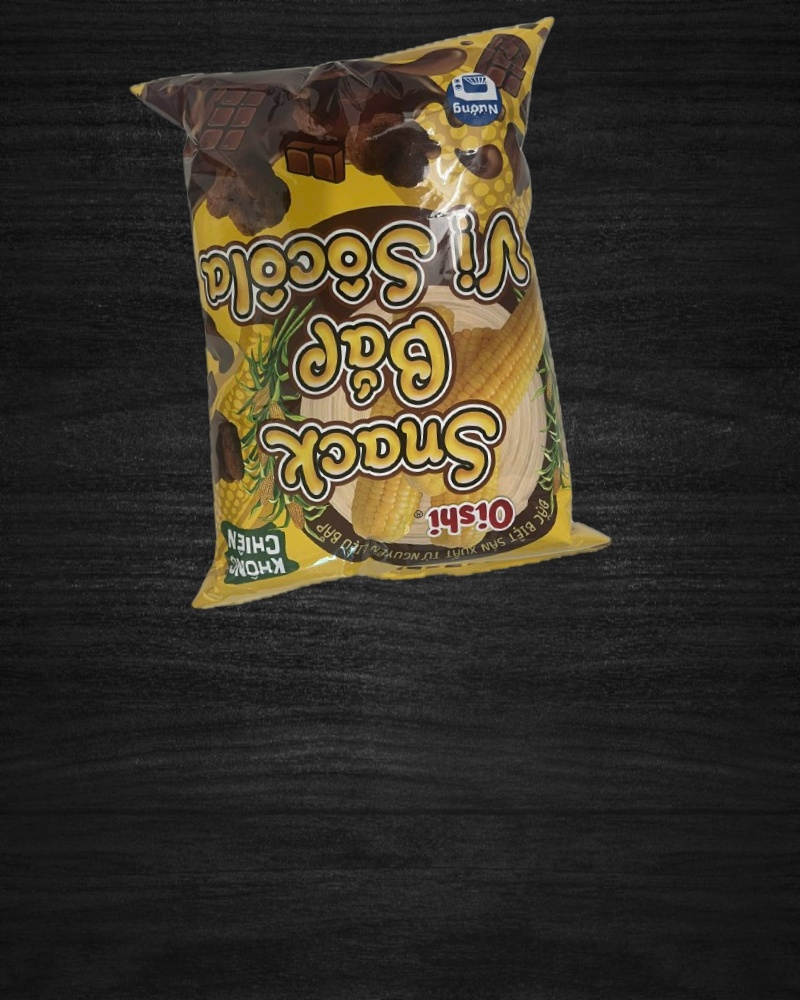Snack socola: (129, 18, 616, 610)
